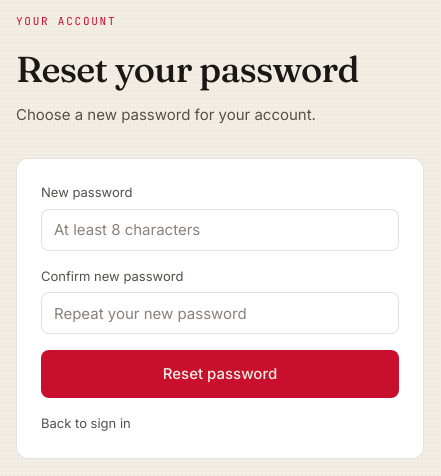
Test: ResetPasswordPage › resets the password and shows a confirmation with no auto sign-in
The width and height of the screenshot is (441, 476).
Type "password123" into the password field labelled "New password" at (220, 230), box [41,208,399,250]
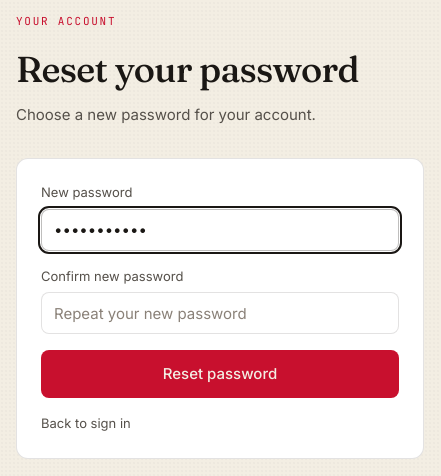
Type "password123" into the password field labelled "Confirm new password" at (220, 313), box [41,292,399,334]
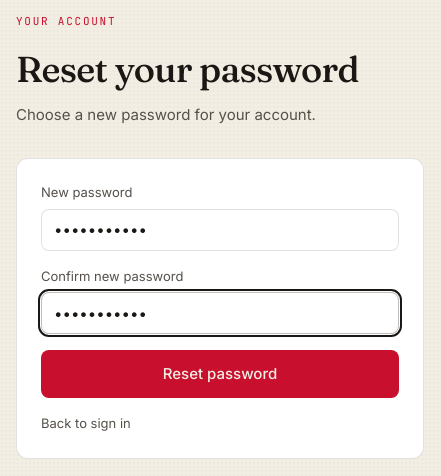
Click the button "Reset password" at (220, 374), box [41,350,399,398]
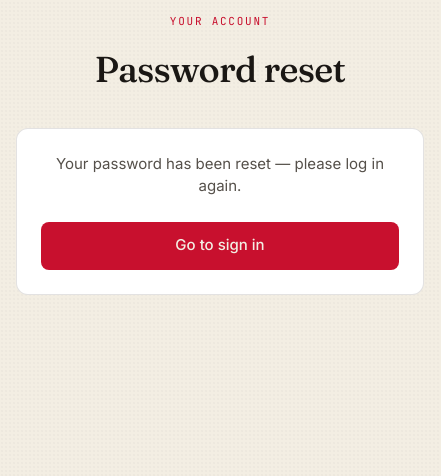
Expected: the text "Your password has been reset — please log in again." is shown, [41,152,399,198]
Expected: the button "Go to sign in" is shown, [41,222,399,270]
